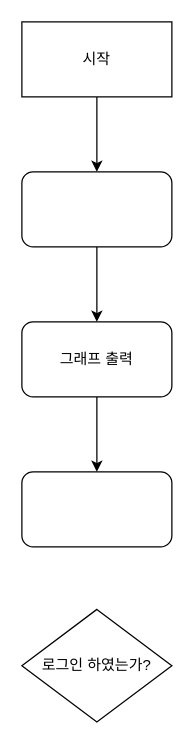
Image size: 194x744. Some labels were removed from this diagram. The shapes that lost their labels are listed below. From the top down, each one's centre as x and y in pixels, then its label:
At (96,209): "사용자 메인폼 입력".
At (96,509): "세부조정".
